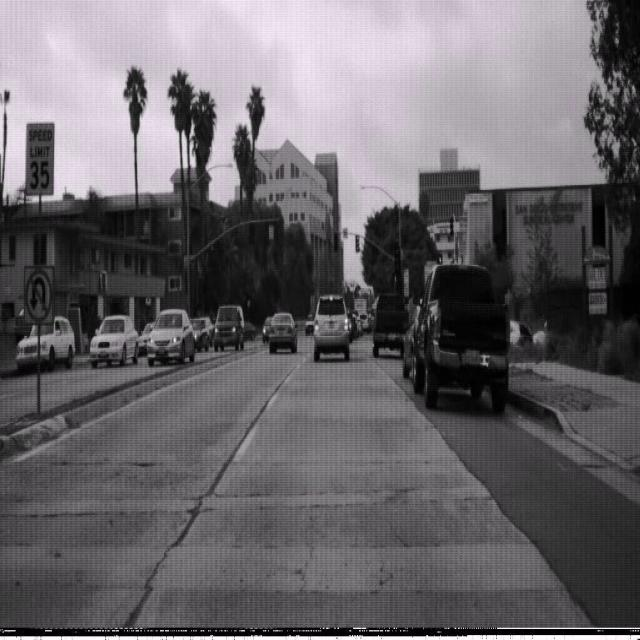speedLimit35: (24, 121, 55, 195)
